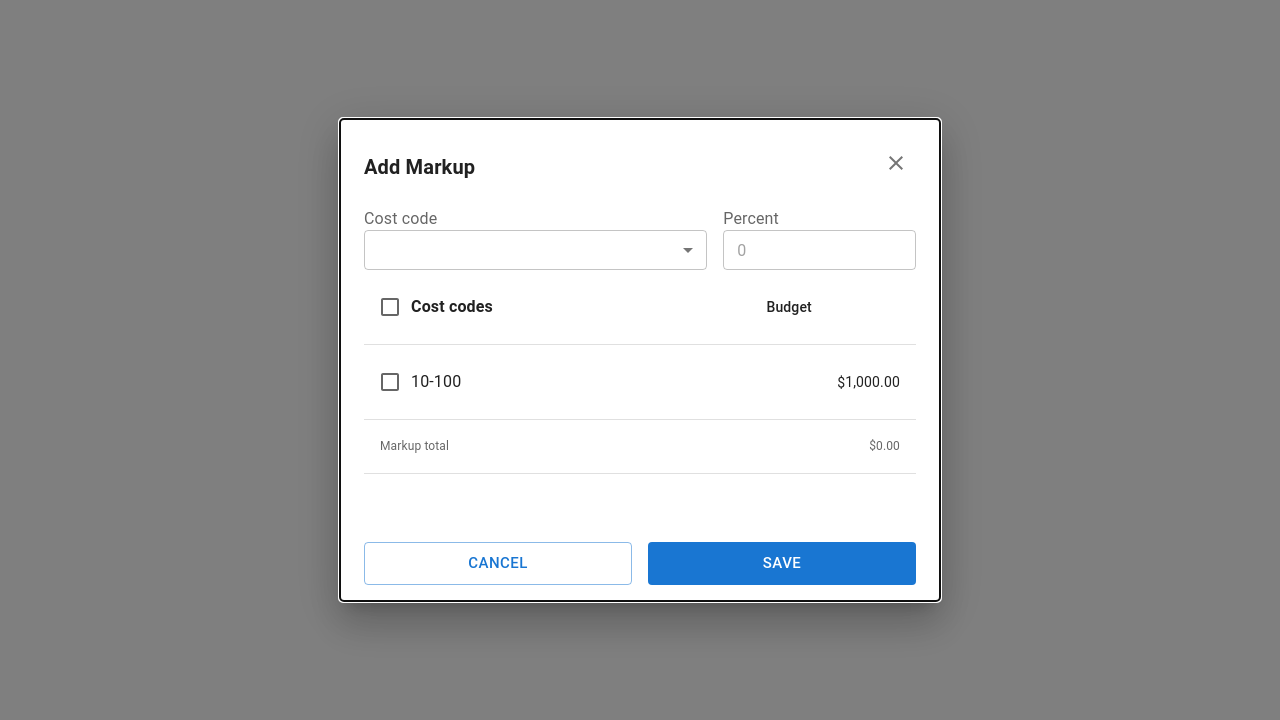
Test: MarkupDialog › shows validation errors when saving an empty form
Click the button "Save" at (782, 564), box [648,542,916,585]
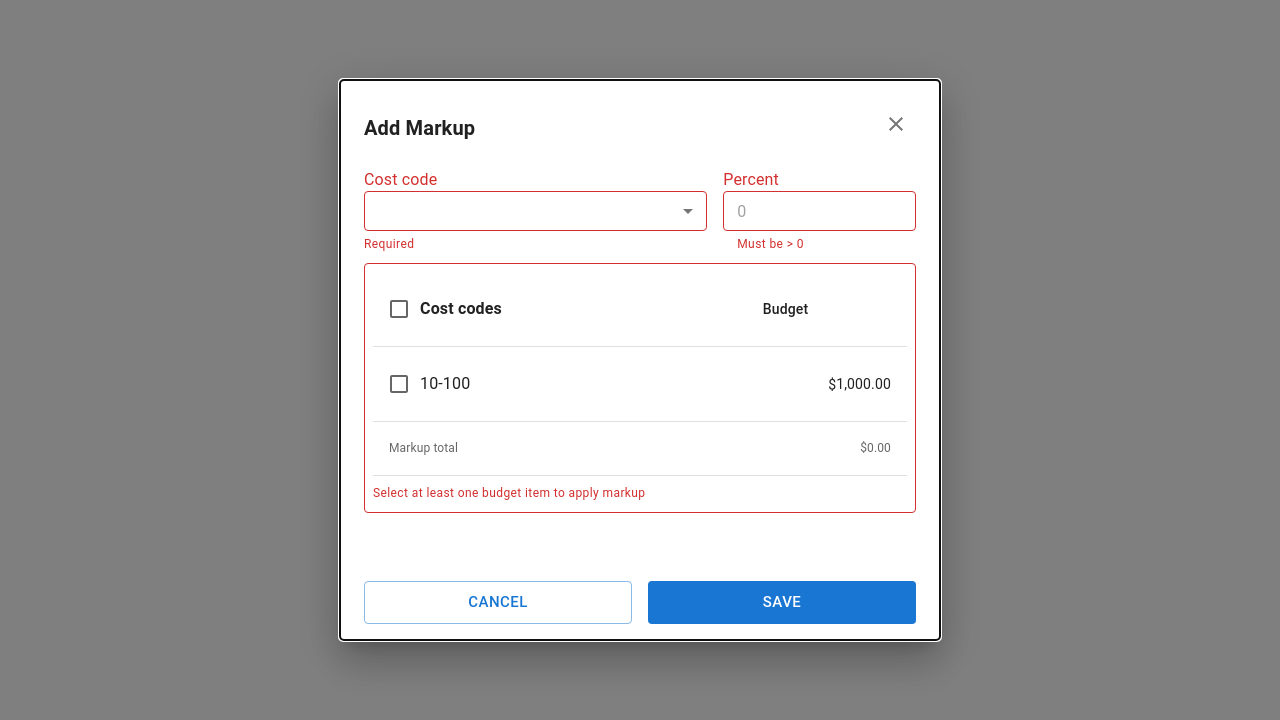
Check: the text "Required" is shown, box [364,237,414,251]
Check: the text "Must be > 0" is shown, box [737,237,804,251]
Check: the text "Select at least one budget item to apply markup" is shown, box [373,486,646,500]
